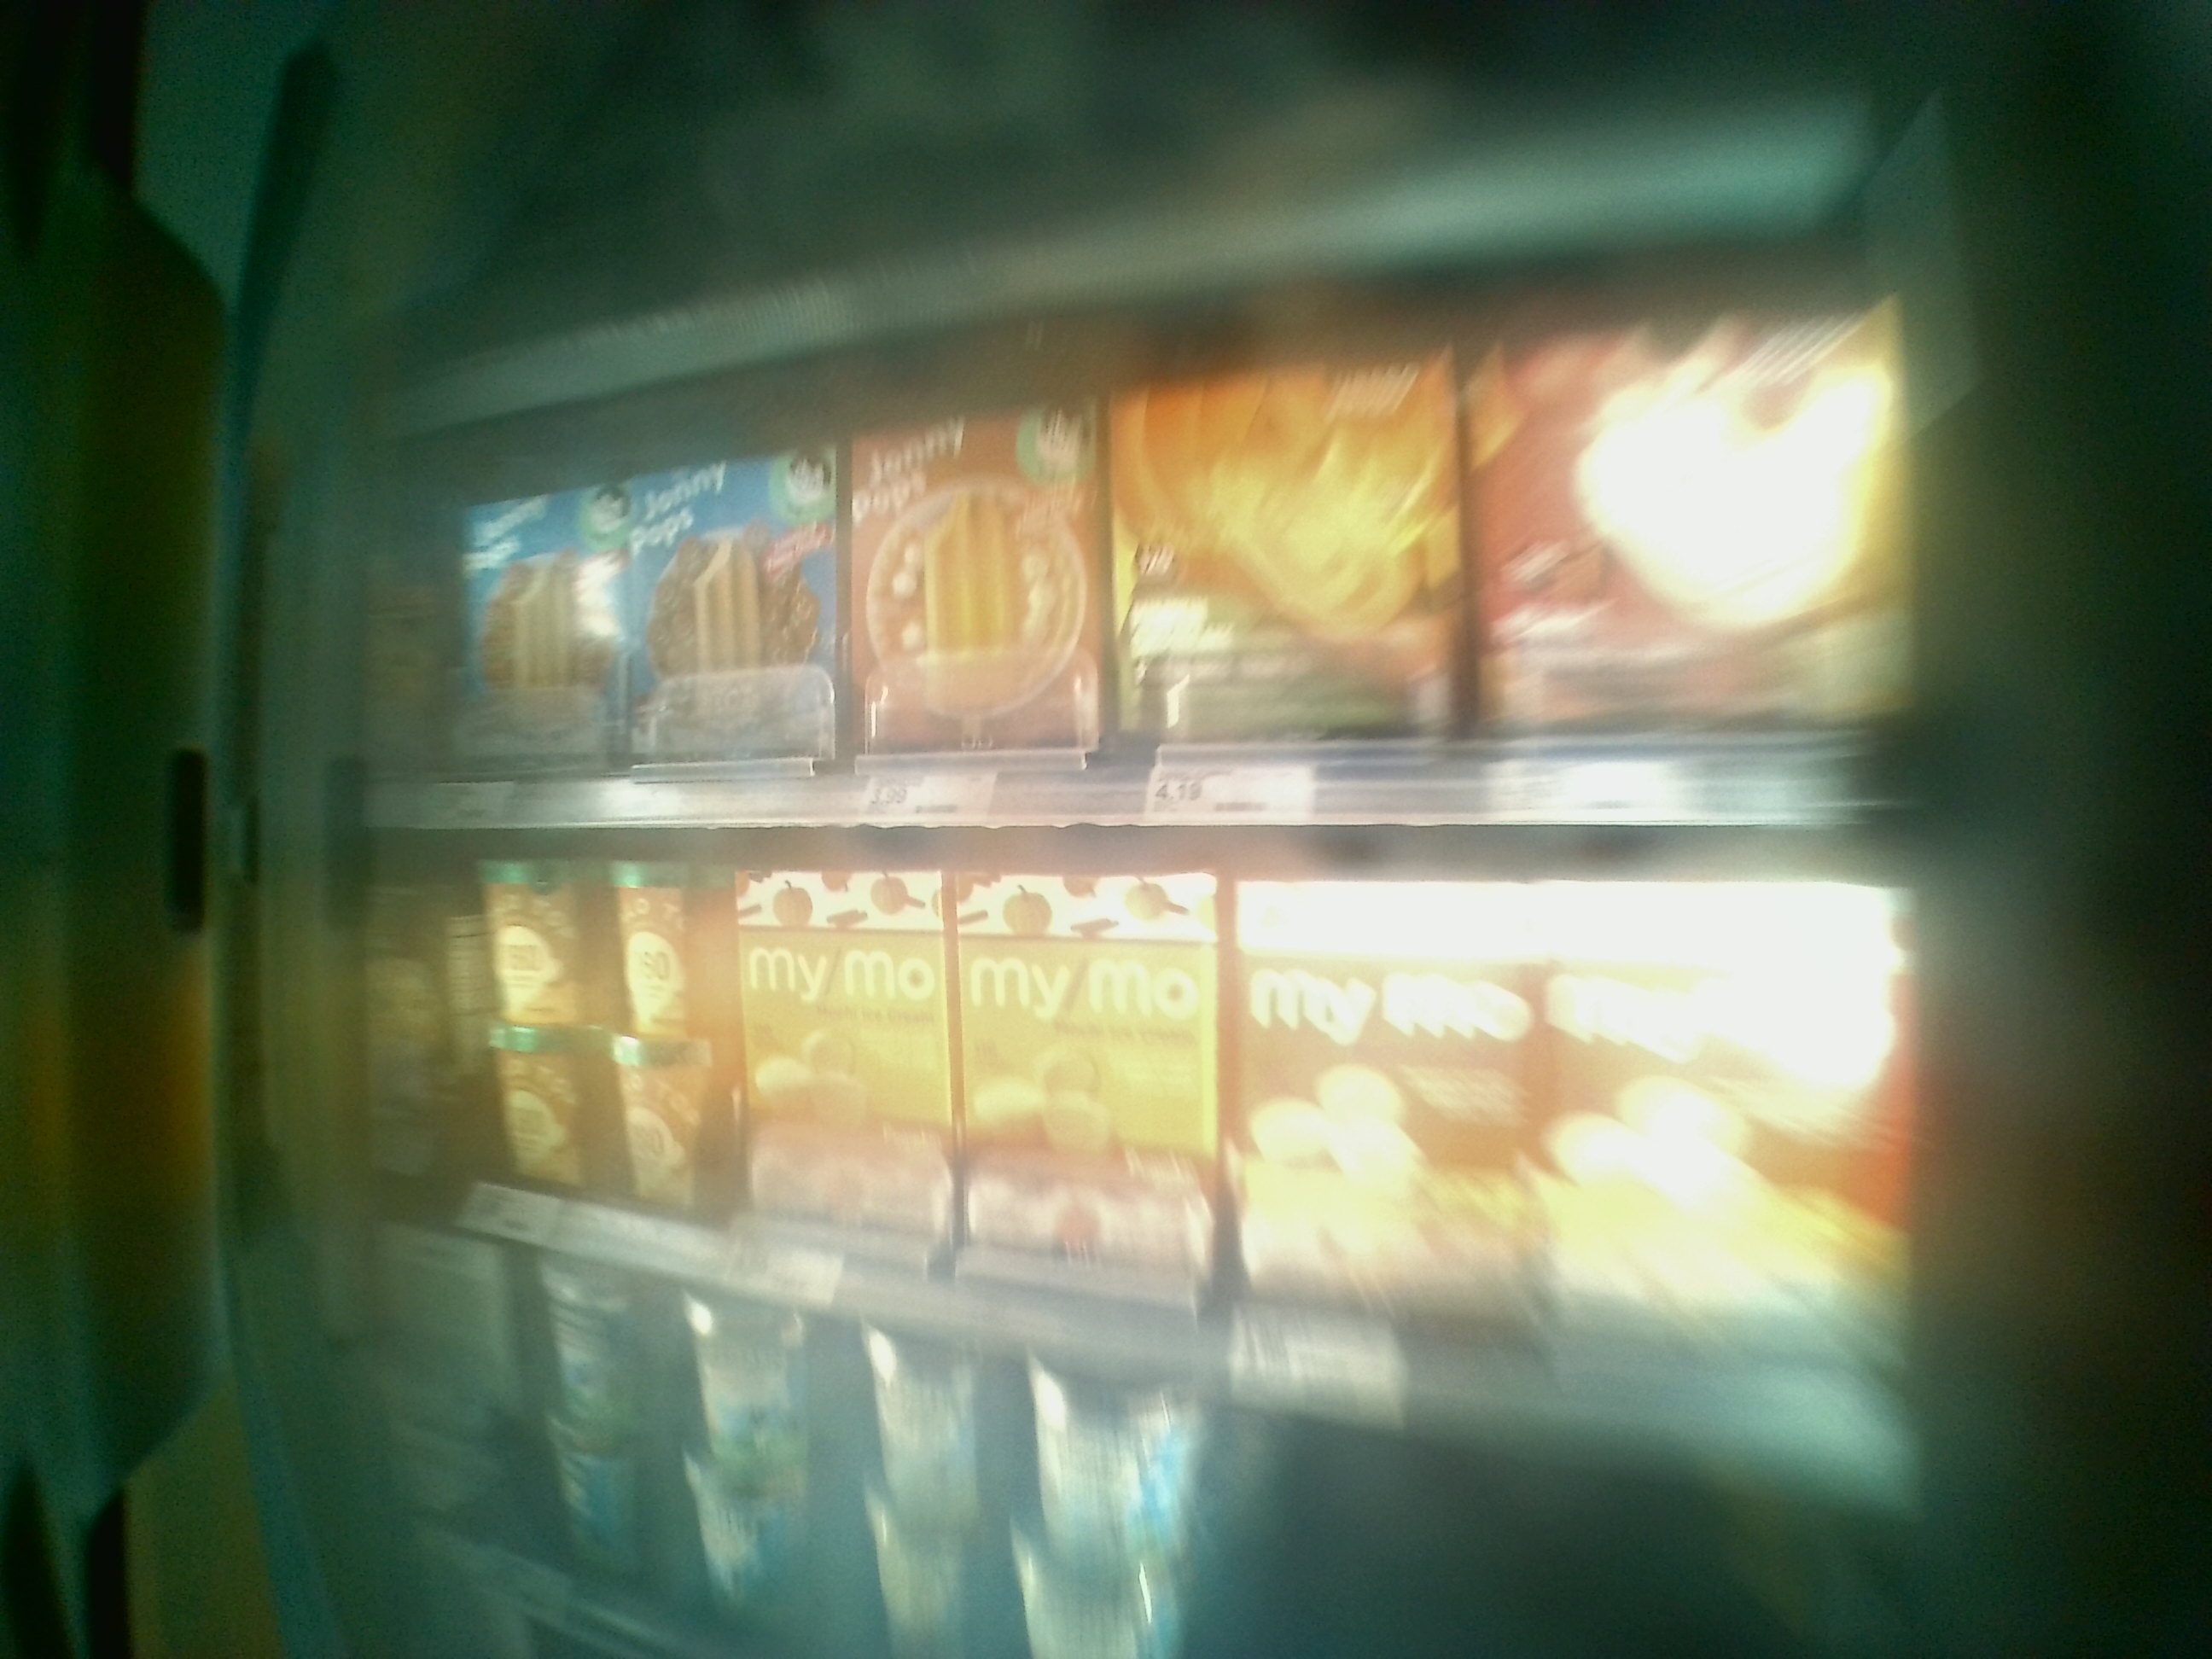shelf: (361, 786, 1900, 1441), (347, 422, 1914, 838)
